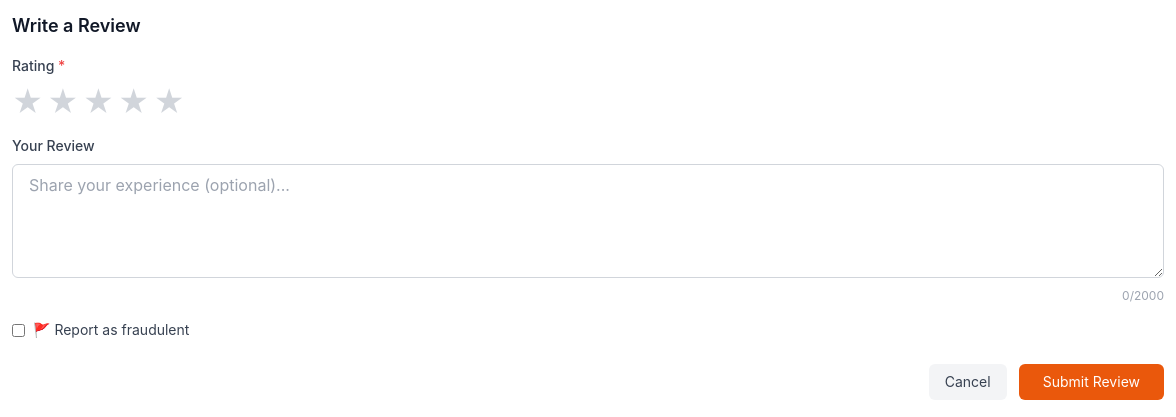
Scenario: ReviewForm › Star Rating › shows selected rating text
The width and height of the screenshot is (1176, 417).
Step 1. Click the radio button named "4 stars" → click(134, 102), box [118,84,150,120]
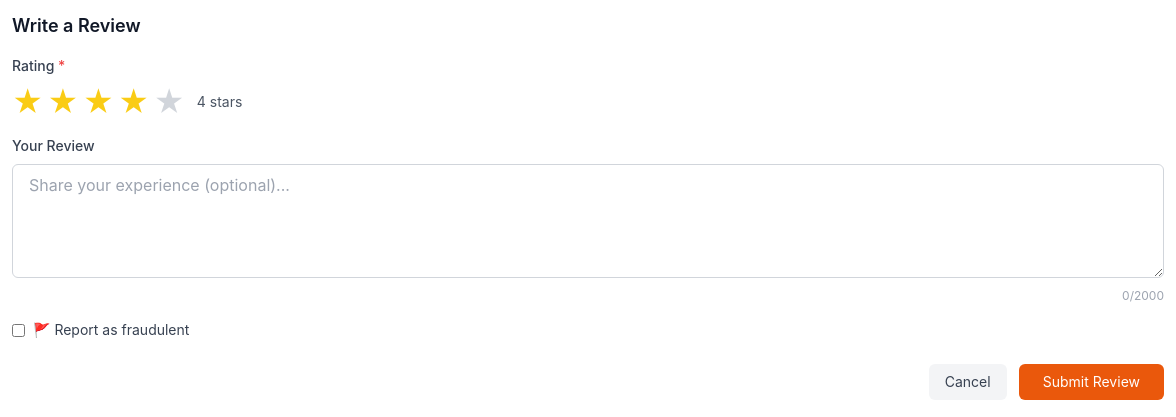
Expected: the text "4 stars" is shown, [197,92,242,112]
